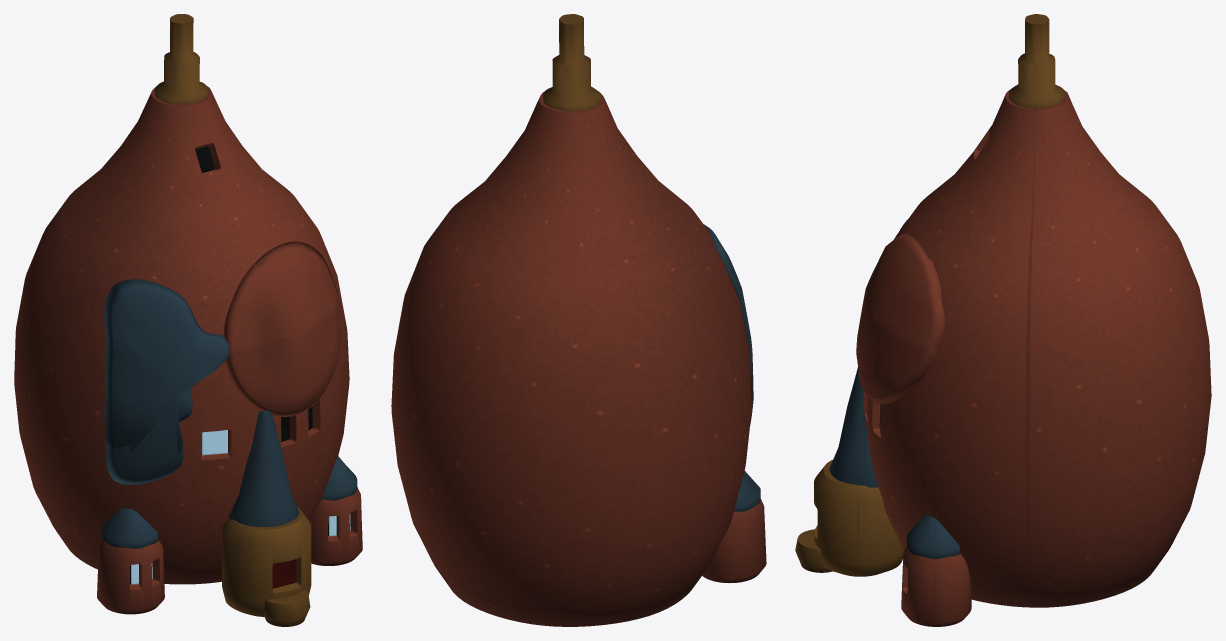
3 renders of one model, left to right at view 1: azimuth 30°, elevation 25°; view 2: azimuth 150°, elevation 25°; view 3: azimuth 270°, elevation 25°, orthographic. The views are drawn at different scales.
Visible parts, largest first — view 1: AC17 main rounded casing, AC17 left stepped slate plate, AC17 broad circular coral field, AC17 ochre ground axial fitting, AC17 tall slate front fitting, AC17 grounded coral side foot 0, AC17 grounded coral side foot 1, AC17 short stepped ochre tip, AC17 slate side cap 0, AC17 grounded axial shoe, AC17 slate side cap 1, AC17 pale blue circular instrument (+1 smaller); view 2: AC17 main rounded casing, AC17 short stepped ochre tip, AC17 grounded coral side foot 0, AC17 left stepped slate plate, AC17 slate side cap 0; view 3: AC17 main rounded casing, AC17 broad circular coral field, AC17 ochre ground axial fitting, AC17 grounded coral side foot 1, AC17 short stepped ochre tip, AC17 tall slate front fitting, AC17 slate side cap 1, AC17 grounded axial shoe.
Boxes of the visible parts, bbox=[...] form: AC17 main rounded casing: bbox=[14, 86, 349, 584]; AC17 left stepped slate plate: bbox=[104, 279, 229, 484]; AC17 broad circular coral field: bbox=[224, 241, 340, 416]; AC17 ochre ground axial fitting: bbox=[222, 507, 311, 616]; AC17 tall slate front fitting: bbox=[228, 410, 298, 526]; AC17 grounded coral side foot 0: bbox=[97, 536, 164, 614]; AC17 grounded coral side foot 1: bbox=[310, 487, 362, 565]; AC17 short stepped ochre tip: bbox=[154, 14, 208, 104]; AC17 slate side cap 0: bbox=[102, 508, 158, 548]; AC17 grounded axial shoe: bbox=[262, 590, 310, 626]; AC17 slate side cap 1: bbox=[322, 456, 357, 500]; AC17 pale blue circular instrument: bbox=[201, 430, 227, 455]; AC17 main rounded casing: bbox=[391, 91, 751, 626]; AC17 short stepped ochre tip: bbox=[543, 14, 600, 111]; AC17 grounded coral side foot 0: bbox=[702, 499, 766, 582]; AC17 left stepped slate plate: bbox=[704, 224, 753, 425]; AC17 slate side cap 0: bbox=[733, 471, 760, 511]; AC17 main rounded casing: bbox=[863, 90, 1211, 607]; AC17 broad circular coral field: bbox=[856, 233, 944, 404]; AC17 ochre ground axial fitting: bbox=[814, 459, 904, 576]; AC17 grounded coral side foot 1: bbox=[901, 545, 971, 626]; AC17 short stepped ochre tip: bbox=[1009, 14, 1064, 108]; AC17 tall slate front fitting: bbox=[829, 367, 878, 487]; AC17 slate side cap 1: bbox=[906, 515, 960, 558]; AC17 grounded axial shoe: bbox=[795, 529, 832, 572].
Size of the model in its own units: 1.88 by 3.24 by 2.24.
6 materials, 5 textured.
